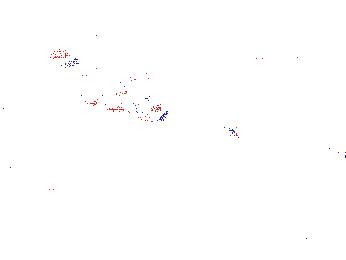red belly glassfish: (213, 120, 244, 141)
redtail glassfish: (45, 32, 171, 126), (305, 129, 346, 173)
